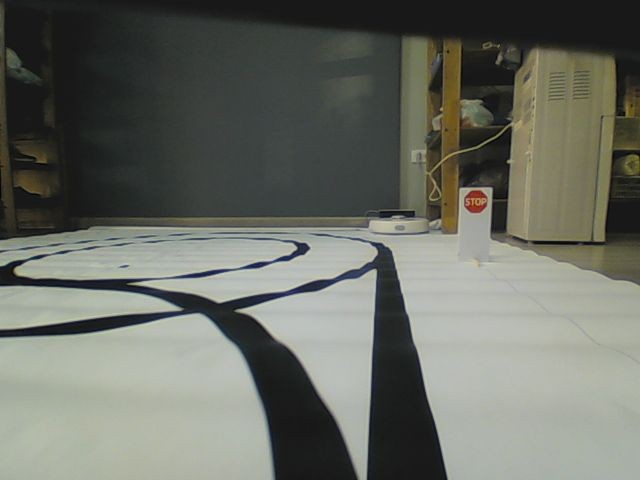Stop: (461, 189, 489, 215)
